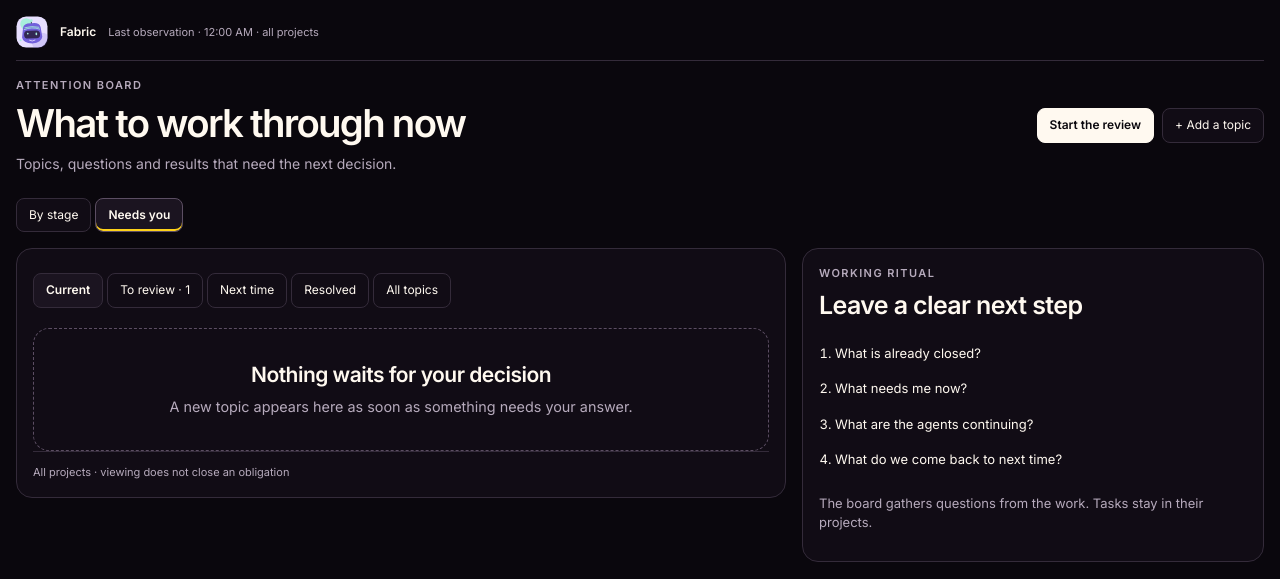
a decision says what it did › names the task an acceptance created
Step 1. Click the button "To review · 1" → (155, 291), box [107,273,203,308]
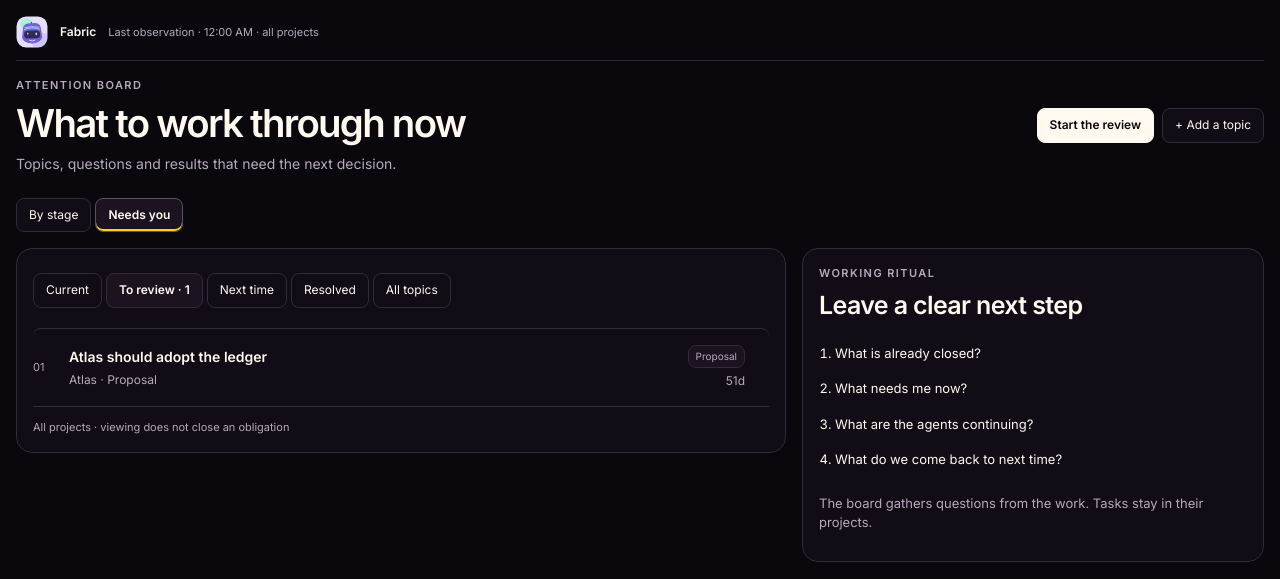
Step 2. Click the text "Atlas should adopt the ledger" → (168, 357), box [69,348,267,365]
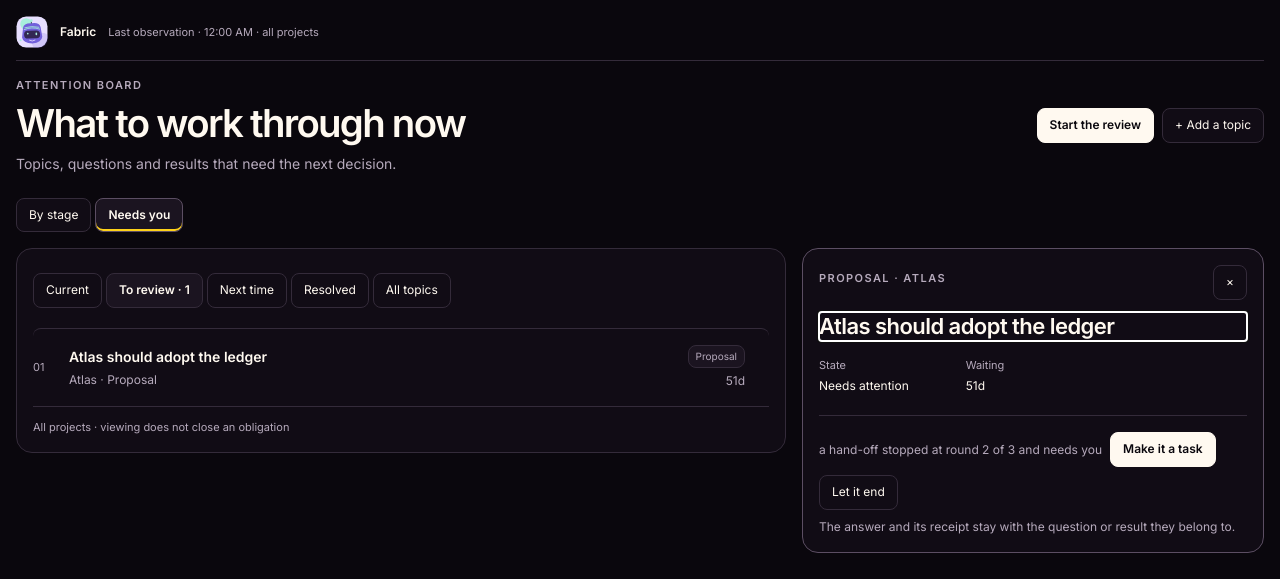
Step 3. Click the button "Make it a task" → (1163, 450), box [1110,432,1216,467]
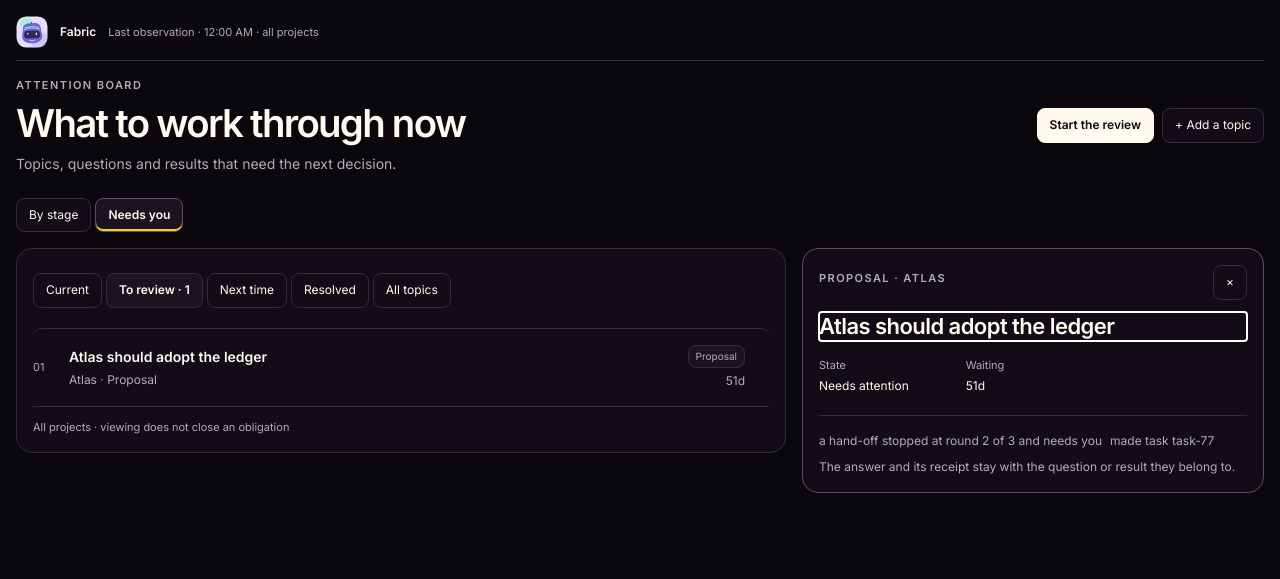
Now the message shows "task-77", box [1110,433,1214,448]
